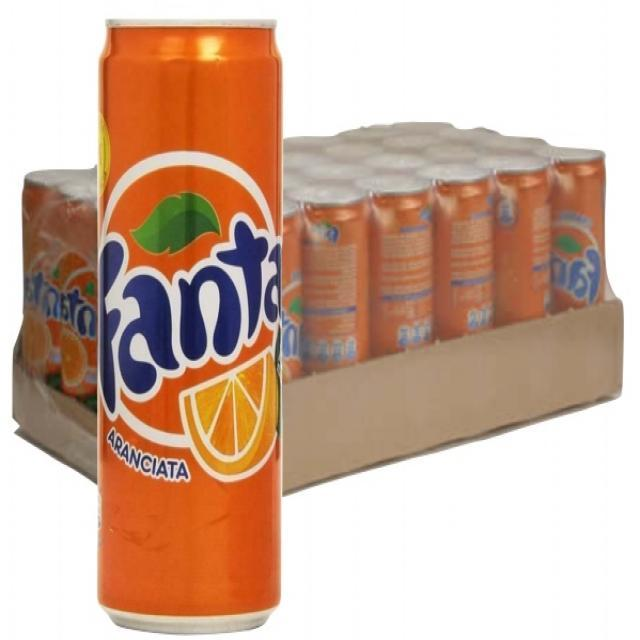Fanta: (91, 13, 291, 639)
